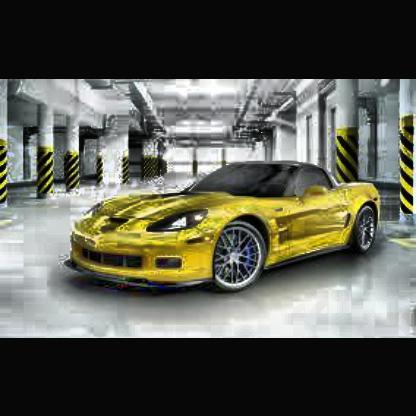Chevrolet Corvette ZR1 2012: (63, 159, 388, 301)
